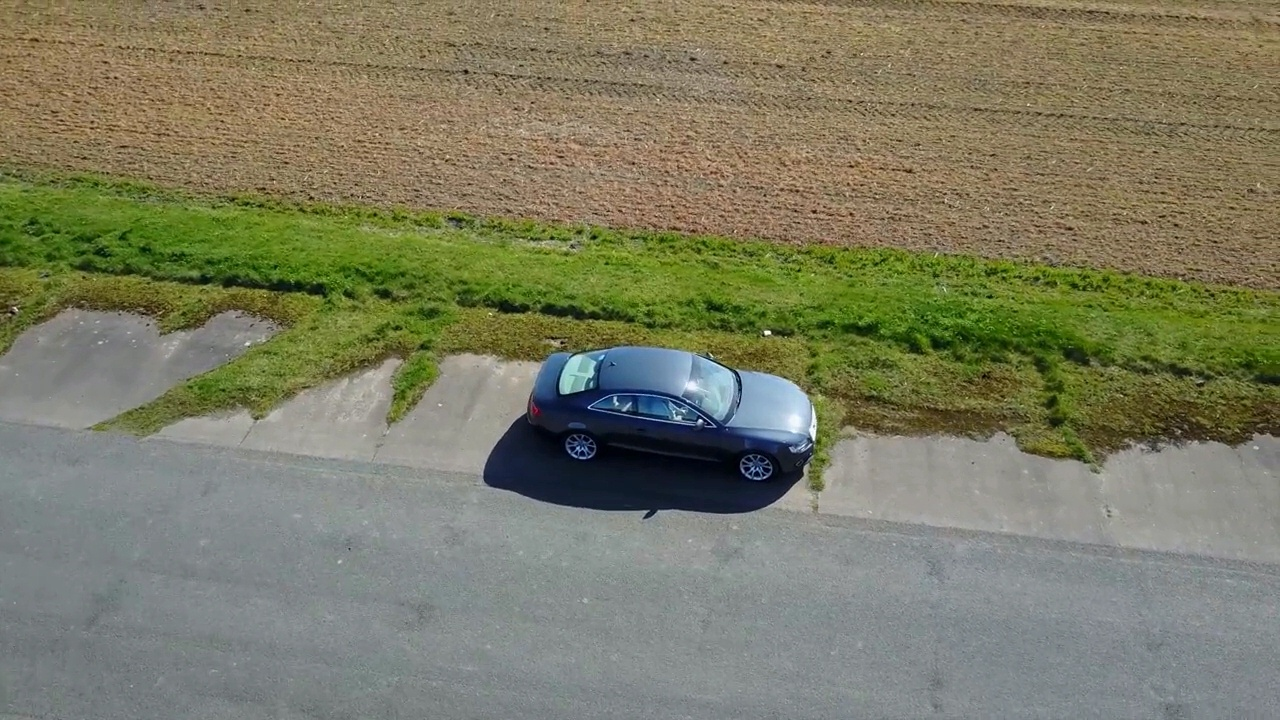araba: (520, 344, 819, 484)
